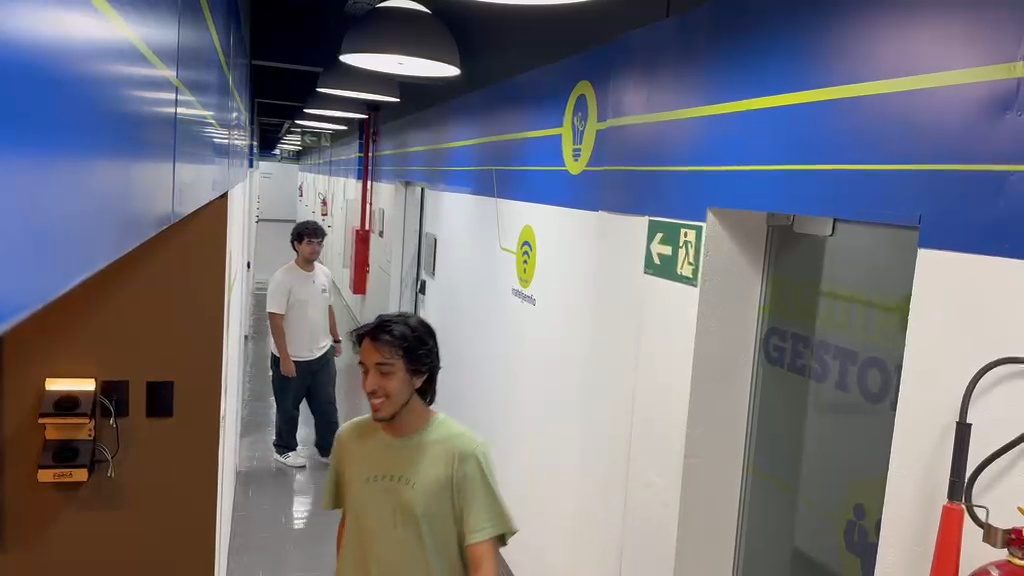person: (324, 312, 518, 573), (266, 220, 361, 465)
